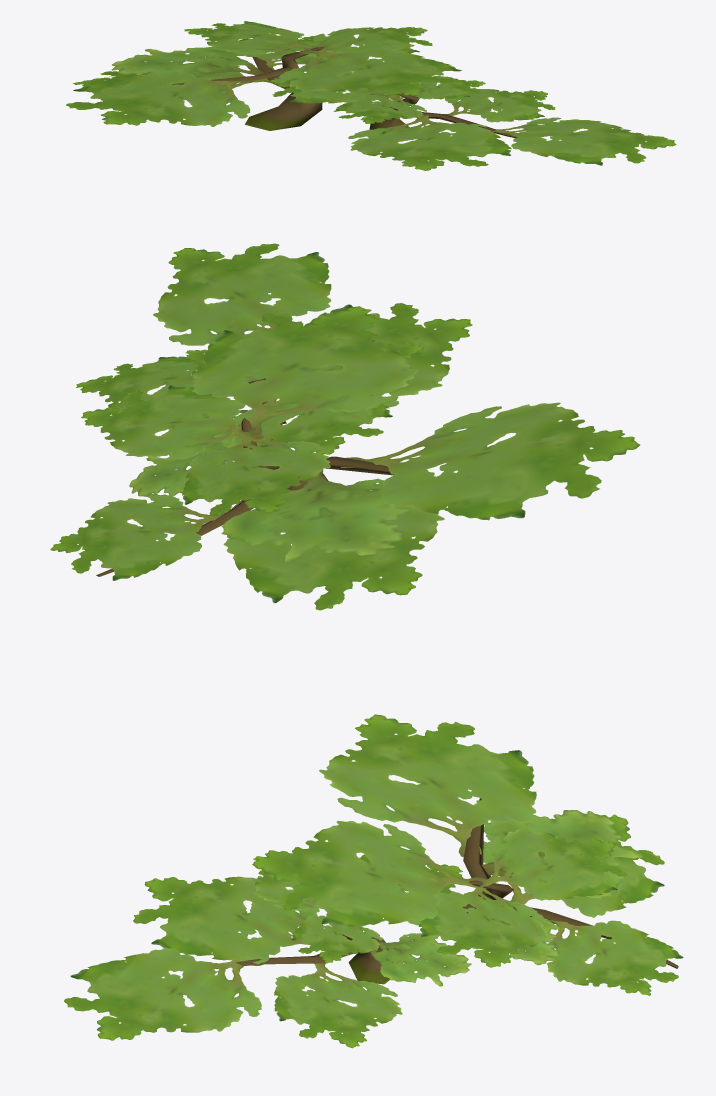
The model's file is liemo_plant_07 (12) #65350060.fbx.
3 renders of one model, top to bottom at view 1: azimuth 30°, elevation 25°; view 2: azimuth 150°, elevation 25°; view 3: azimuth 270°, elevation 25°, orthographic. The views are drawn at different scales.
Parts seen in each view (by area): view 1: liemo_plant_07 (12); view 2: liemo_plant_07 (12); view 3: liemo_plant_07 (12).
Part boxes in pixels (x1,y1,x2,y2): liemo_plant_07 (12): [66, 21, 676, 170]; liemo_plant_07 (12): [50, 243, 640, 610]; liemo_plant_07 (12): [64, 714, 683, 1048].
Size of the model in its own units: 6.62 by 1.02 by 5.79.
